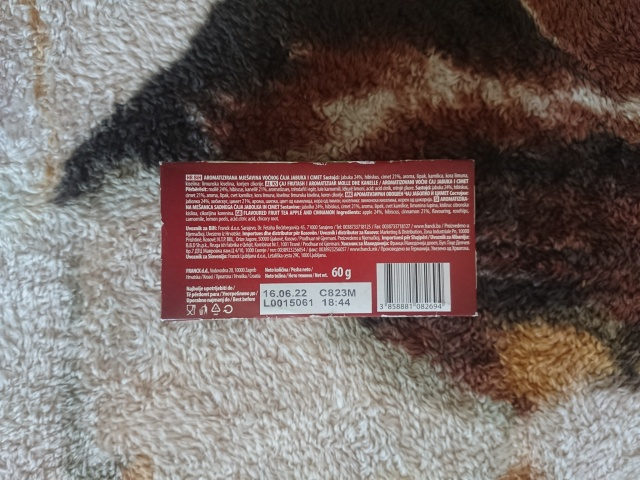Franck Apple Cinnamon Tea 60g: (156, 156, 482, 322)
